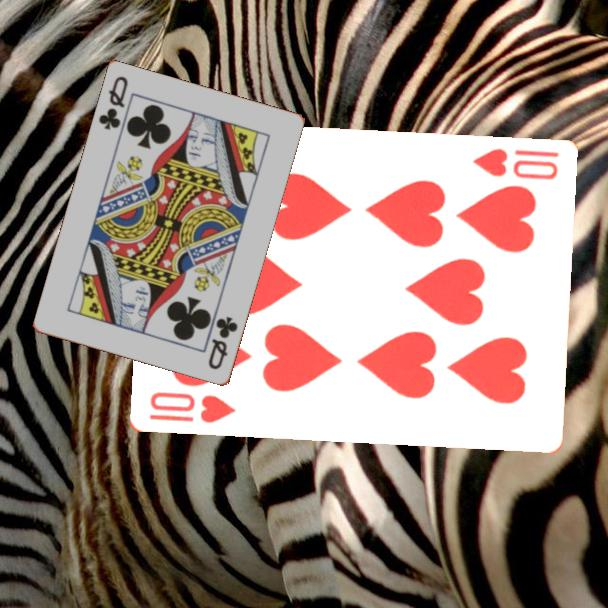c12: (205, 313, 241, 373), (95, 73, 131, 133)
h10: (145, 388, 238, 426), (469, 145, 561, 183)
